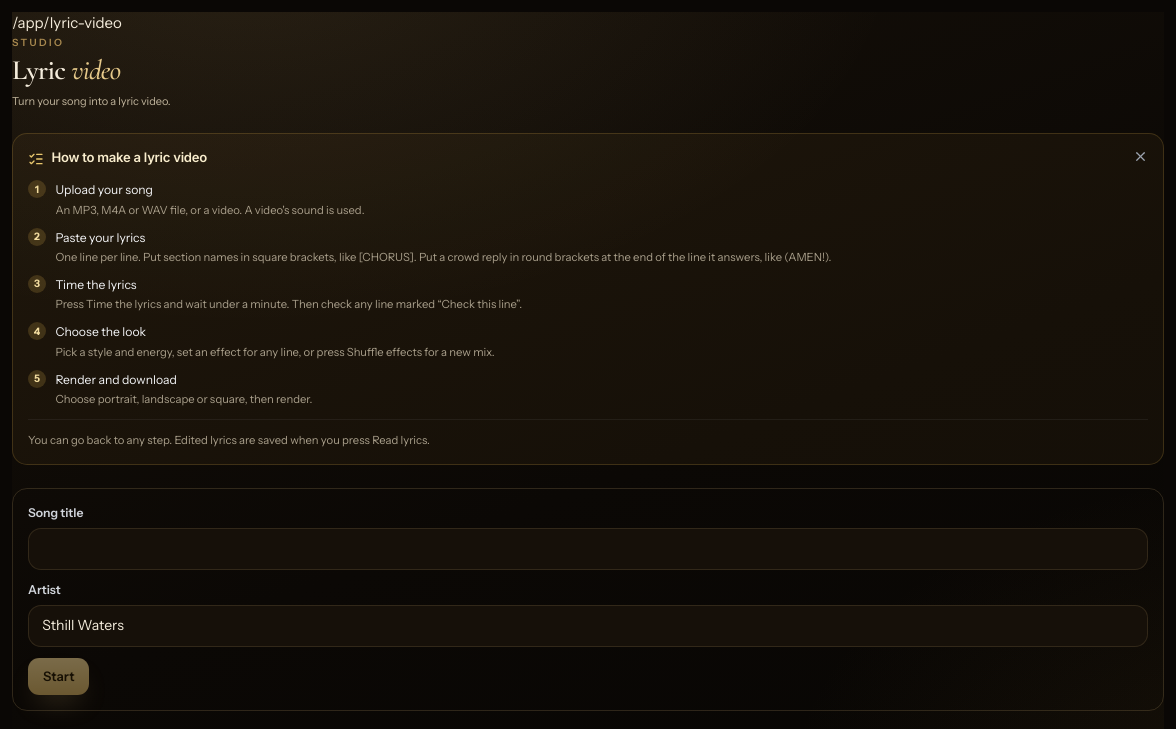
Test case: LyricVideoPage › starts a project and opens it
Expected: the field showing "Sthill Waters" is shown, [28,605,1148,647]
Step 1. Type "My Time" into the field labelled "Song title" → (588, 549), box [28,528,1148,570]
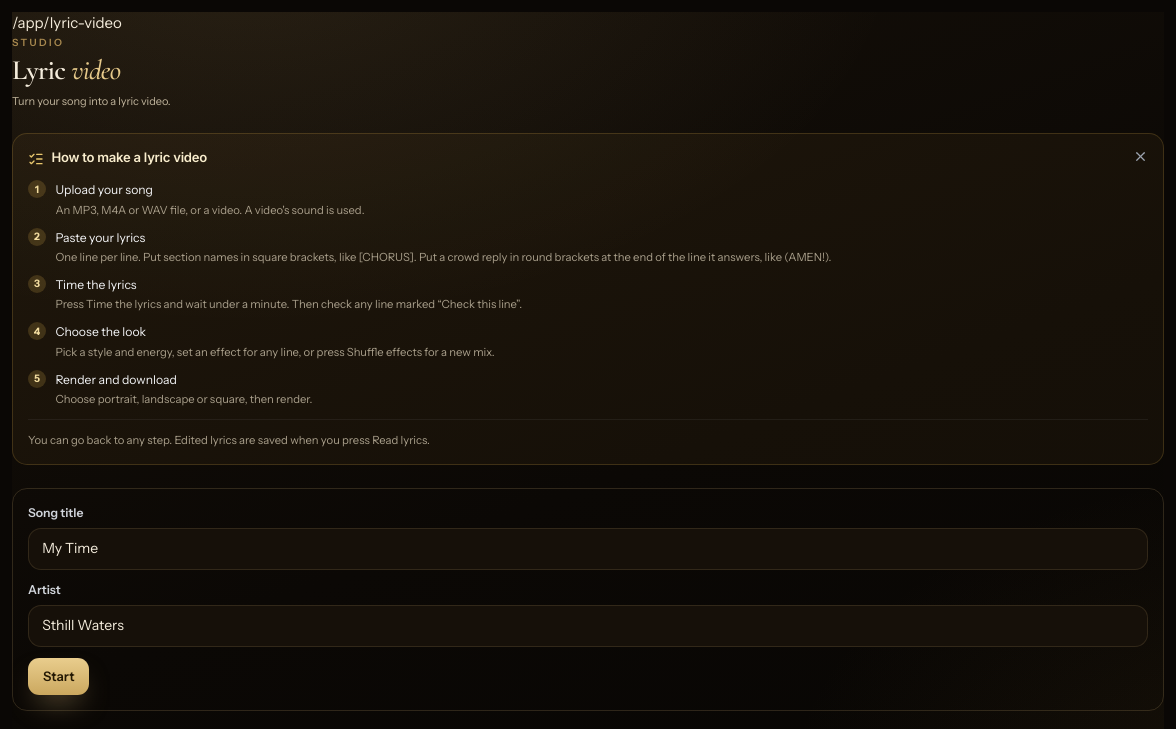
Step 2. Click the button "Start" → (59, 677), box [28,658,90,695]
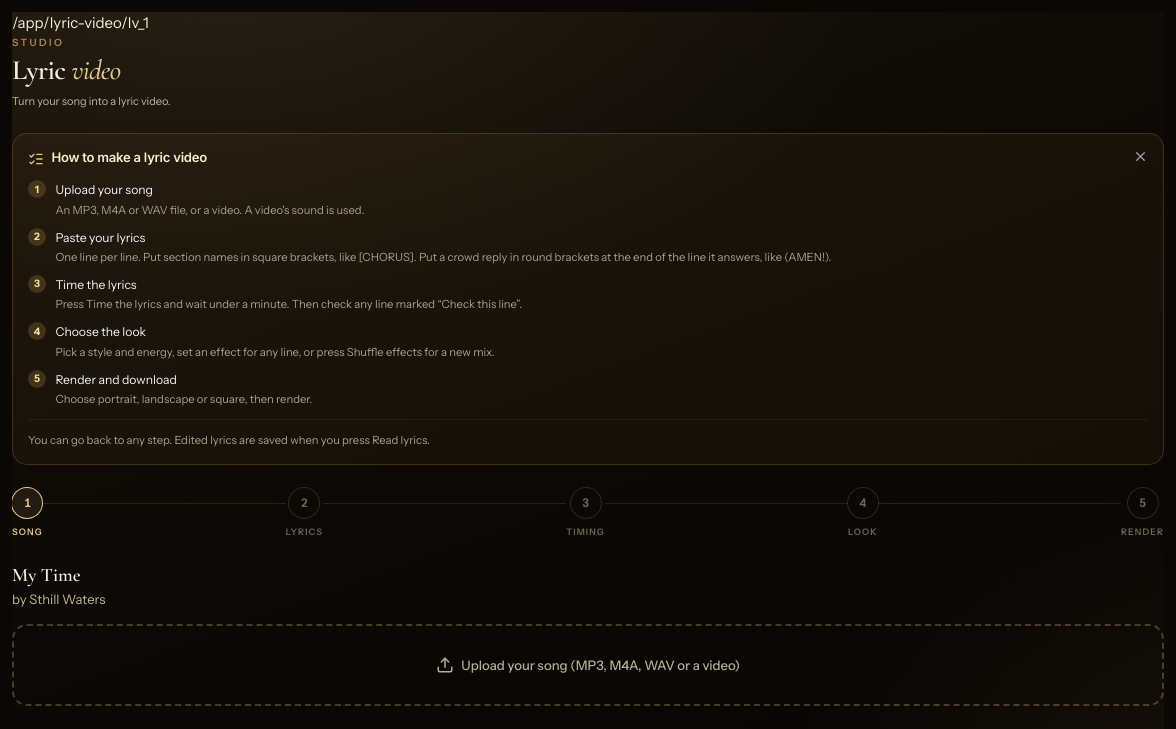
Expected: the text with test id "where" reads "/app/lyric-video/lv_1", [12,13,149,32]
